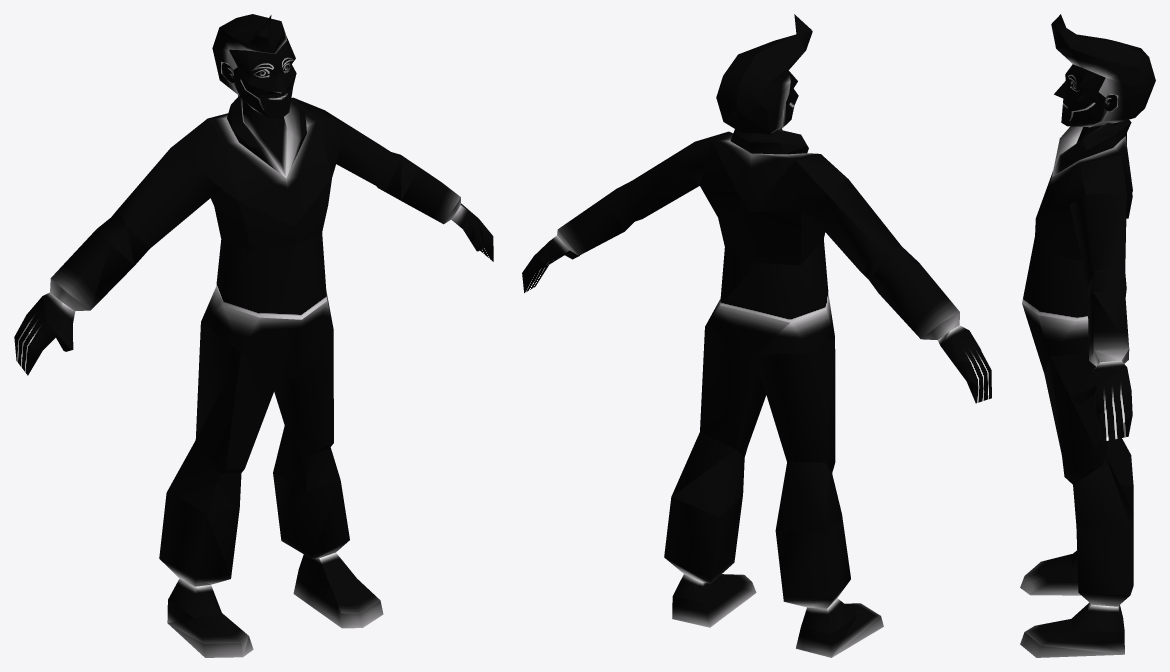
Rendered from Audience Silhouette 1.obj.
3 views of the same model, side by side, from view 1: azimuth 30°, elevation 25°; view 2: azimuth 150°, elevation 25°; view 3: azimuth 270°, elevation 25° (orthographic). The views are drawn at different scales.
Parts seen in each view (by area): view 1: Mesh_0076; view 2: Mesh_0076; view 3: Mesh_0076.
Boxes of the visible parts, x1,y1,x2,y2 form: Mesh_0076: [14, 14, 493, 657]; Mesh_0076: [522, 14, 991, 657]; Mesh_0076: [1020, 14, 1155, 657].
Bounding box in the file's own units: 1.82 × 2.3 × 0.4743.
1 material, 1 textured.
